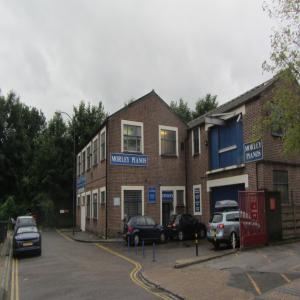Vehicle-registration-plate: (24, 241, 34, 247)
